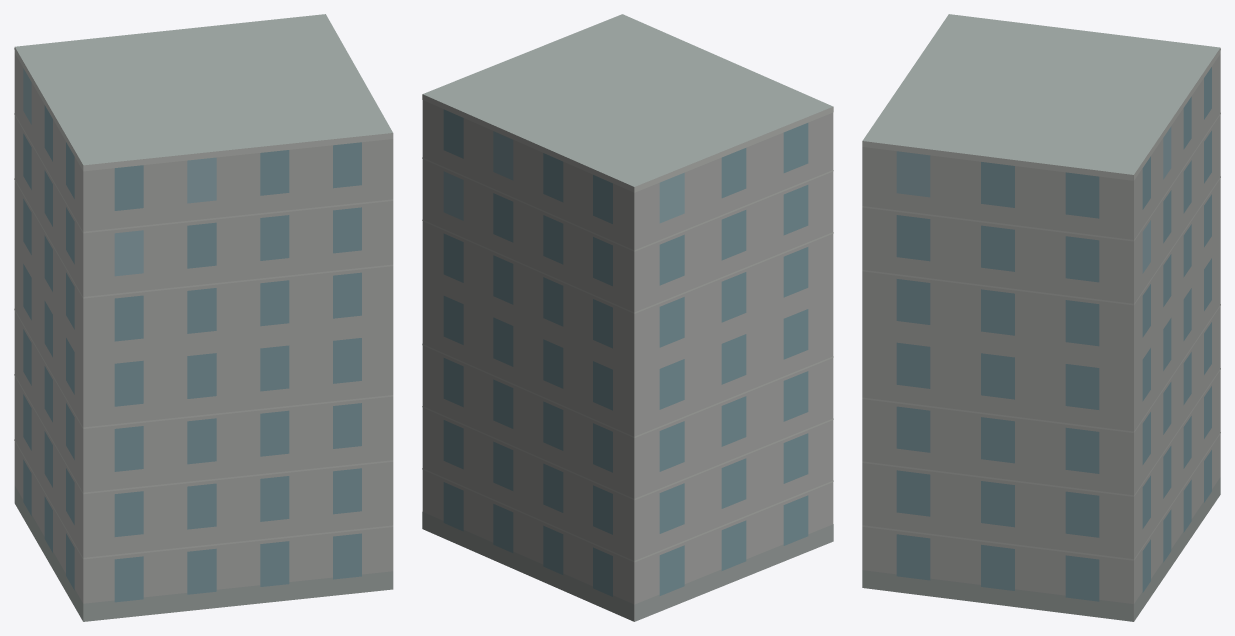
File: survey-upis-32868348.glb
The picture shows the model from 3 angles, left to right: view 1: azimuth 30°, elevation 25°; view 2: azimuth 150°, elevation 25°; view 3: azimuth 270°, elevation 25°; orthographic projection. The views are drawn at different scales.
Parts seen in each view (by area): view 1: survey-upis-32868348.tmp; view 2: survey-upis-32868348.tmp; view 3: survey-upis-32868348.tmp.
Boxes of the visible parts, x1,y1,x2,y2 form: survey-upis-32868348.tmp: (14, 14, 393, 621); survey-upis-32868348.tmp: (422, 14, 833, 621); survey-upis-32868348.tmp: (862, 14, 1220, 621).
Size of the model in its own units: 14.24 by 18.4 by 13.39.
